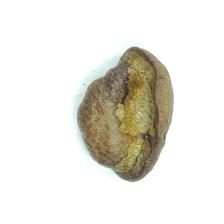NG: (81, 47, 160, 176)
